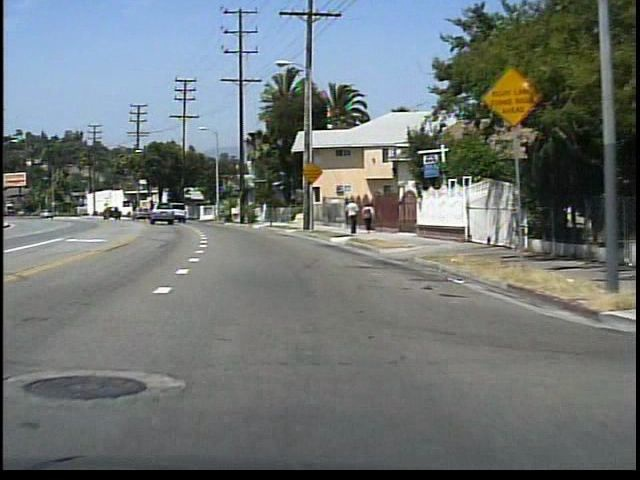person: (343, 197, 360, 238), (359, 200, 376, 234)
